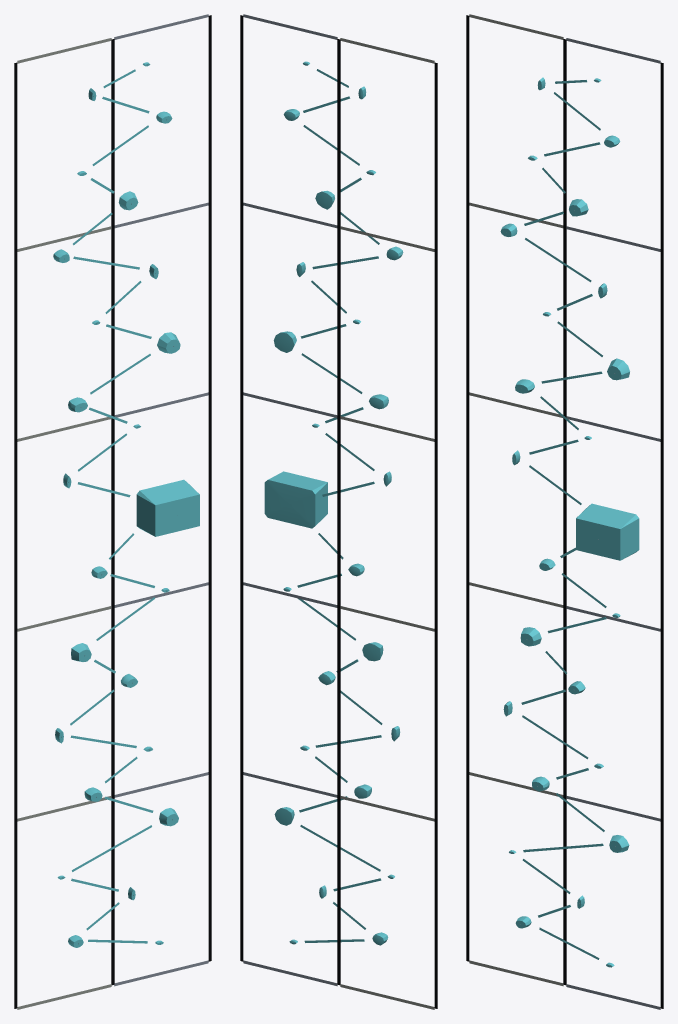
Rendered from tt_climb_lead_routes_b.glb.
3 renders of one model, left to right at view 1: azimuth 30°, elevation 25°; view 2: azimuth 150°, elevation 25°; view 3: azimuth 330°, elevation 25°, orthographic.
Visible parts, largest first — view 1: Grid_Mullion, Holds_PU, Route_Tape, Grid_Course_R, Grid_Course_L; view 2: Grid_Mullion, Holds_PU, Route_Tape, Grid_Course_L, Grid_Course_R; view 3: Grid_Mullion, Holds_PU, Route_Tape, Grid_Course_R, Grid_Course_L.
Boxes of the visible parts, x1,y1,x2,y2 form: Grid_Mullion: (14, 15, 211, 1008); Holds_PU: (53, 62, 199, 947); Route_Tape: (70, 69, 154, 943); Grid_Course_R: (114, 14, 208, 986); Grid_Course_L: (17, 38, 111, 1009); Grid_Mullion: (240, 15, 437, 1008); Holds_PU: (264, 61, 403, 945); Route_Tape: (297, 69, 382, 942); Grid_Course_L: (340, 38, 434, 1009); Grid_Course_R: (243, 14, 337, 986); Grid_Mullion: (466, 15, 663, 1008); Holds_PU: (500, 77, 639, 967); Route_Tape: (521, 80, 606, 959); Grid_Course_R: (566, 38, 660, 1009); Grid_Course_L: (469, 14, 563, 986).
Size of what is drawn, in the model's own units: 2.5 by 11.5 by 0.364.
Materials: 5 (2 with a texture image).
